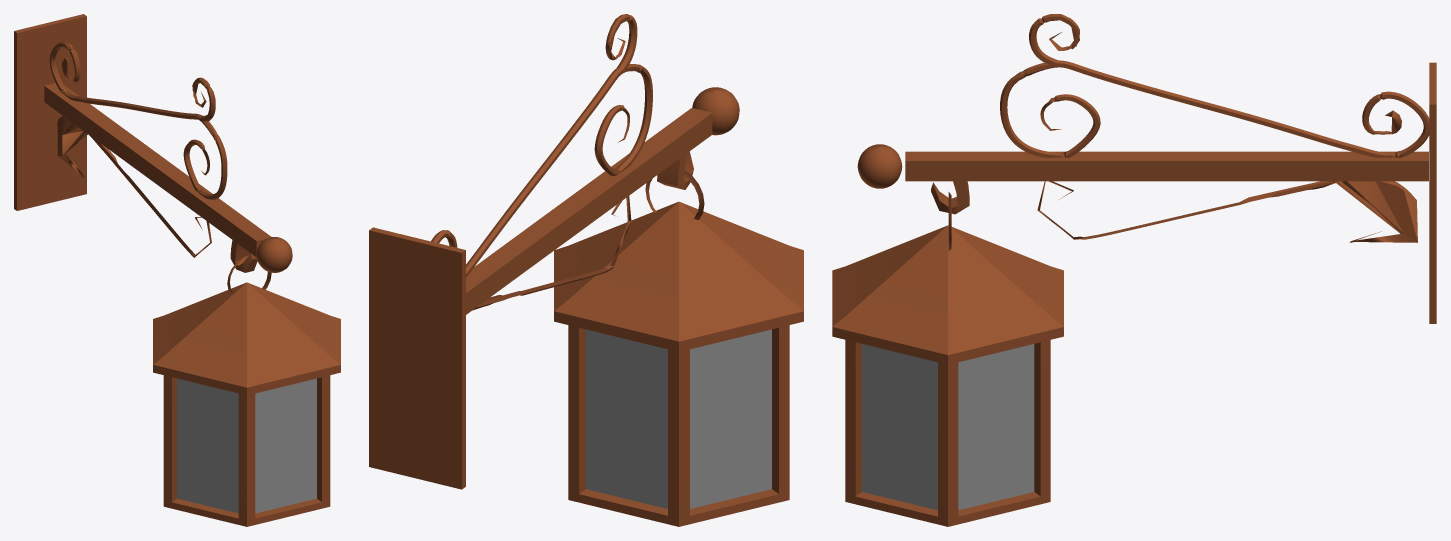
File: deng4.FBX
3 views of the same model, side by side, from view 1: azimuth 30°, elevation 25°; view 2: azimuth 150°, elevation 25°; view 3: azimuth 270°, elevation 25° (orthographic). The views are drawn at different scales.
Visible parts, largest first — view 1: Acc_Light003, 对象002; view 2: Acc_Light003, 对象002; view 3: Acc_Light003, 对象002.
Boxes of the visible parts, bbox=[...] form: Acc_Light003: bbox=[14, 14, 340, 526]; 对象002: bbox=[177, 378, 316, 513]; Acc_Light003: bbox=[369, 14, 803, 526]; 对象002: bbox=[586, 329, 771, 508]; Acc_Light003: bbox=[832, 14, 1436, 526]; 对象002: bbox=[862, 344, 1034, 510].
Size of the model in its own units: 0.2276 by 0.4346 by 0.5144.
